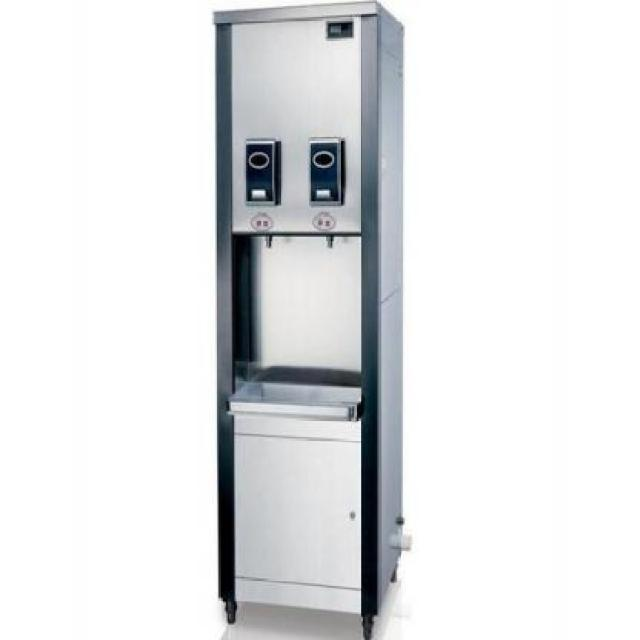cooler: (212, 1, 409, 640)
